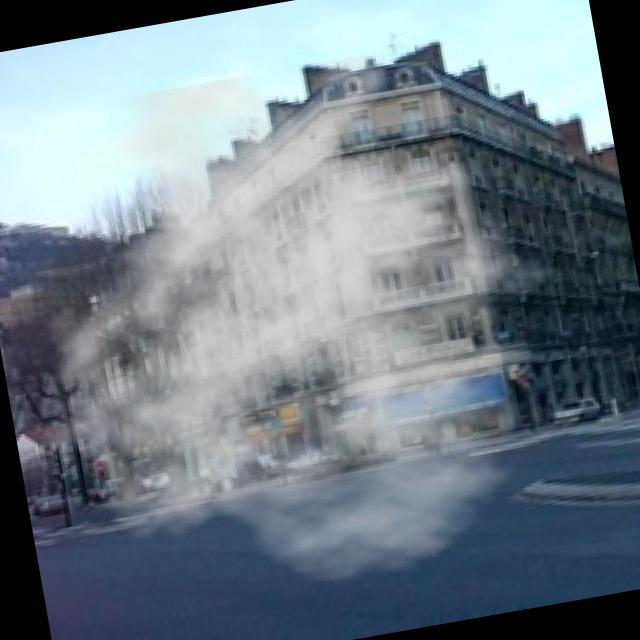Smoke: (0, 24, 628, 631)
